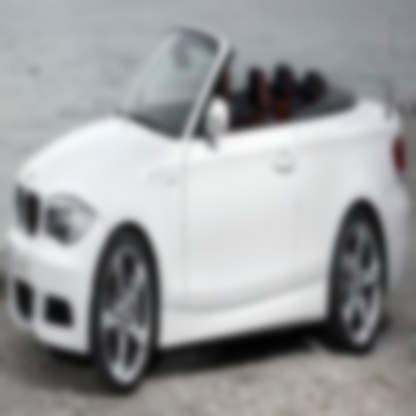Vehicle: (9, 26, 411, 396)
